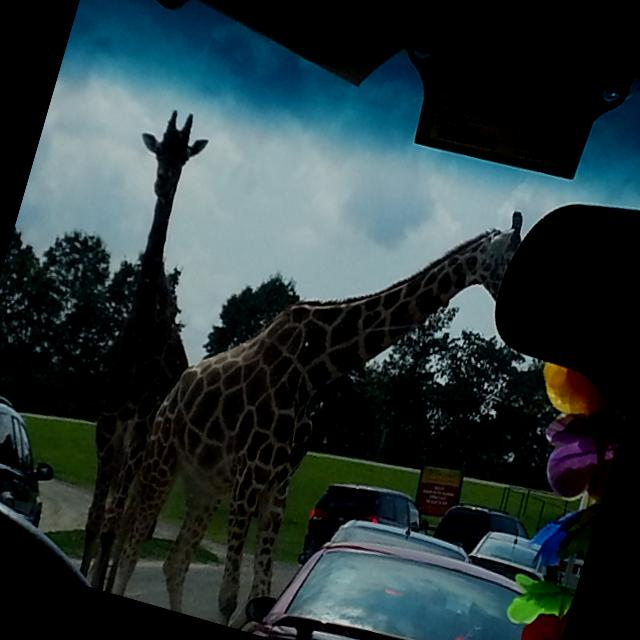Vehicle: (248, 501, 541, 640), (295, 469, 437, 596), (329, 508, 473, 580), (0, 385, 70, 527), (430, 495, 536, 571), (466, 524, 556, 584)
